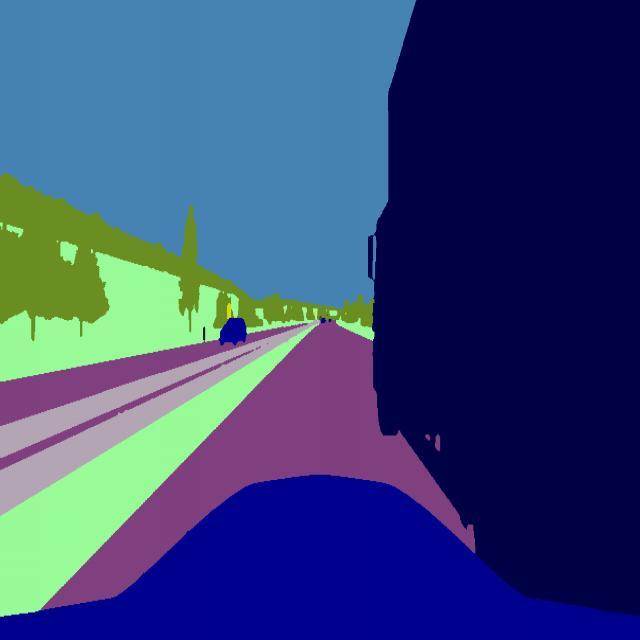safe: (218, 311, 250, 349)
unsafe: (367, 0, 640, 608)
